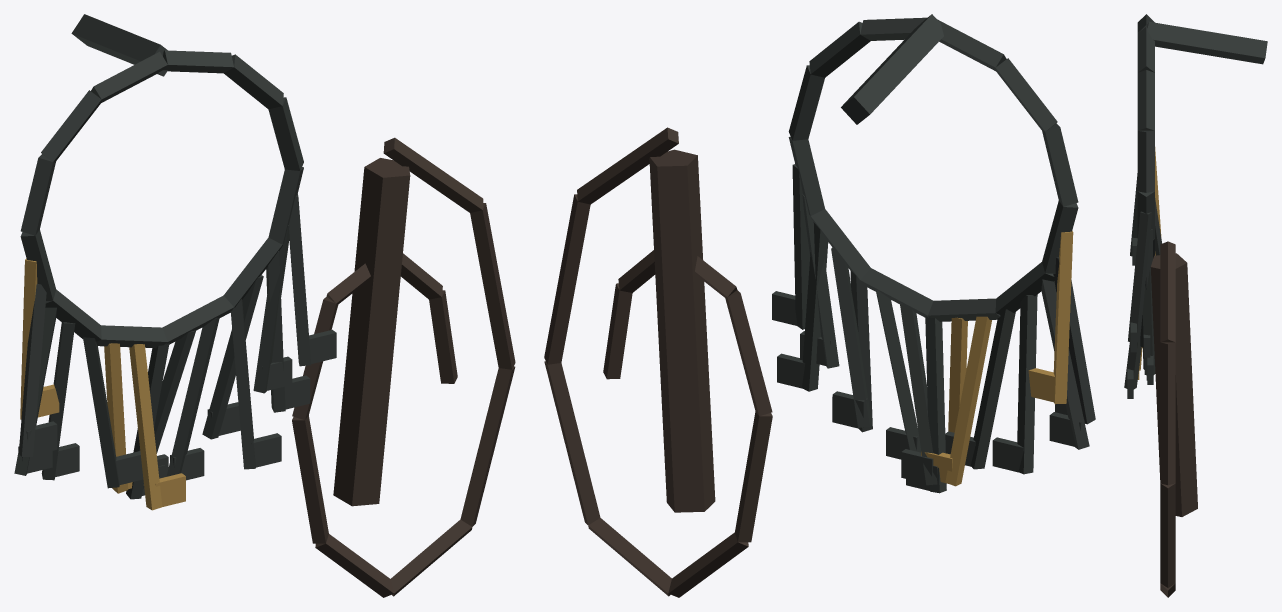
Rendered from key_ring.glb.
3 views of the same model, side by side, from view 1: azimuth 30°, elevation 25°; view 2: azimuth 150°, elevation 25°; view 3: azimuth 270°, elevation 25° (orthographic). The views are drawn at different scales.
Parts seen in each view (by area): view 1: coiled whip handle, whip lash.008, hanging key.006, whip lash.007, hanging key.001, hanging key.009, wall hook, whip lash.004, whip lash.009, hanging key.010, hanging key.011, hanging key.004 (+36 smaller); view 2: coiled whip handle, wall hook, whip lash.008, hanging key.003, hanging key.005, whip lash.007, hanging key.004, hanging key.011, hanging key.007, hanging key, whip lash.004, whip lash.009 (+34 smaller); view 3: coiled whip handle, wall hook, whip lash.008, whip lash.007, whip lash.009, hanging key.014, key ring, key ring.001, hanging key.012, key ring.002, key ring.011, hanging key.010 (+5 smaller).
Part boxes in pixels (x1,y1,x2,y2): coiled whip handle: (333,158,410,506); whip lash.008: (470,203,515,369); hanging key.006: (129,344,162,510); whip lash.007: (460,366,515,526); hanging key.001: (18,284,46,456); hanging key.009: (166,317,219,476); wall hook: (71,14,167,76); whip lash.004: (292,415,328,543); whip lash.009: (383,137,483,212); hanging key.010: (230,299,255,469); hanging key.011: (202,275,263,439); hanging key.004: (83,337,119,488); coiled whip handle: (649,149,715,512); wall hook: (841,14,943,124); whip lash.008: (544,194,590,364); hanging key.003: (1017,294,1037,474); hanging key.005: (945,316,991,486); whip lash.007: (544,361,600,525); hanging key.004: (970,309,1015,469); hanging key.011: (831,247,871,427); hanging key.007: (925,316,946,493); hanging key: (1053,231,1073,404); whip lash.004: (735,411,772,542); whip lash.009: (577,127,678,204); coiled whip handle: (1150,253,1197,516); wall hook: (1147,21,1267,64); whip lash.008: (1160,342,1175,485); whip lash.007: (1160,483,1175,587); whip lash.009: (1160,241,1175,342); hanging key.014: (1128,211,1152,342); key ring: (1137,130,1154,192); key ring.001: (1137,70,1154,130); hanging key.012: (1142,269,1155,375); key ring.002: (1137,26,1154,72); key ring.011: (1137,191,1154,239); hanging key.010: (1124,339,1141,389).
Bounding box in the file's own units: 0.4297 × 0.4927 × 0.1326.
